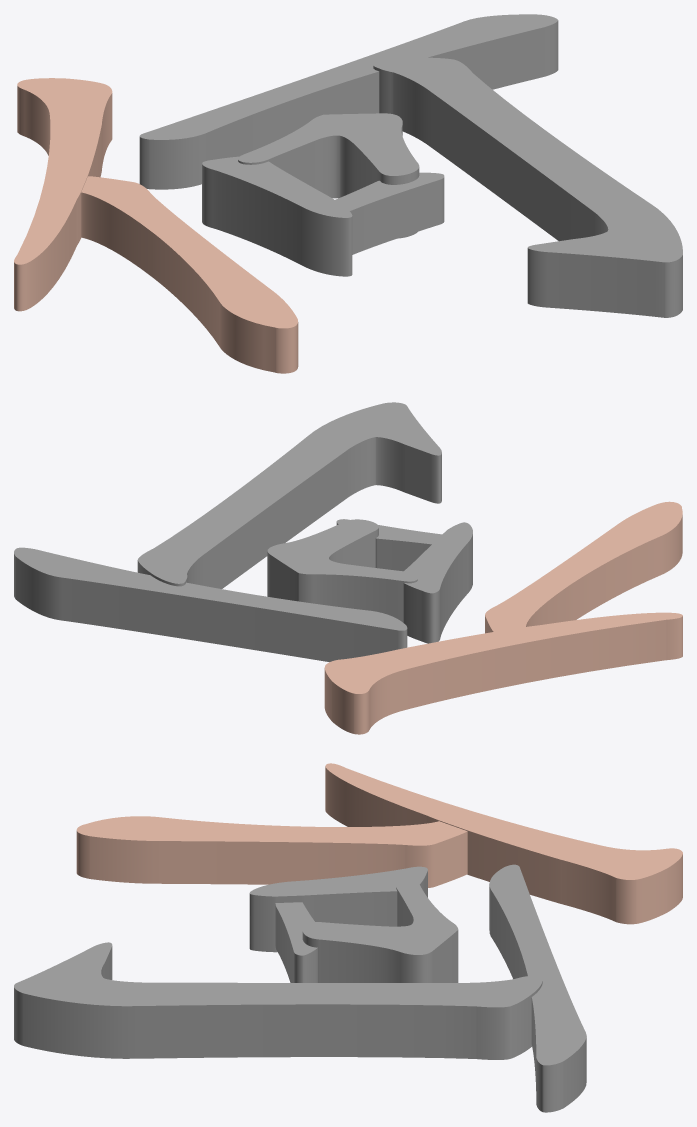
The model's file is hanzi37.fbx.
3 renders of one model, top to bottom at view 1: azimuth 30°, elevation 25°; view 2: azimuth 150°, elevation 25°; view 3: azimuth 270°, elevation 25°, orthographic. The views are drawn at different scales.
Parts seen in each view (by area): view 1: Curve.006, Curve.002, Curve.001, Curve, Curve.003, Curve.004, Curve.005; view 2: Curve.006, Curve.002, Curve, Curve.001, Curve.004, Curve.003, Curve.005; view 3: Curve.006, Curve.001, Curve, Curve.002, Curve.004, Curve.003, Curve.005.
Boxes of the visible parts, x1,y1,x2,y2 form: Curve.006: (373, 57, 682, 317); Curve.002: (139, 14, 558, 189); Curve.001: (81, 176, 298, 373); Curve: (14, 78, 112, 311); Curve.003: (202, 156, 352, 276); Curve.004: (238, 113, 419, 238); Curve.005: (335, 172, 444, 254); Curve.006: (137, 402, 441, 588); Curve.002: (14, 547, 407, 661); Curve: (324, 612, 682, 734); Curve.001: (485, 501, 682, 633); Curve.004: (267, 519, 417, 622); Curve.003: (403, 522, 472, 643); Curve.005: (336, 519, 441, 571); Curve.006: (14, 942, 542, 1059); Curve.001: (76, 816, 467, 887); Curve: (325, 763, 682, 924); Curve.002: (489, 864, 586, 1112); Curve.004: (302, 878, 458, 982); Curve.003: (249, 866, 427, 952); Curve.005: (275, 902, 317, 982).
Bounding box in the file's own units: 26.25 × 24.46 × 2.4.
